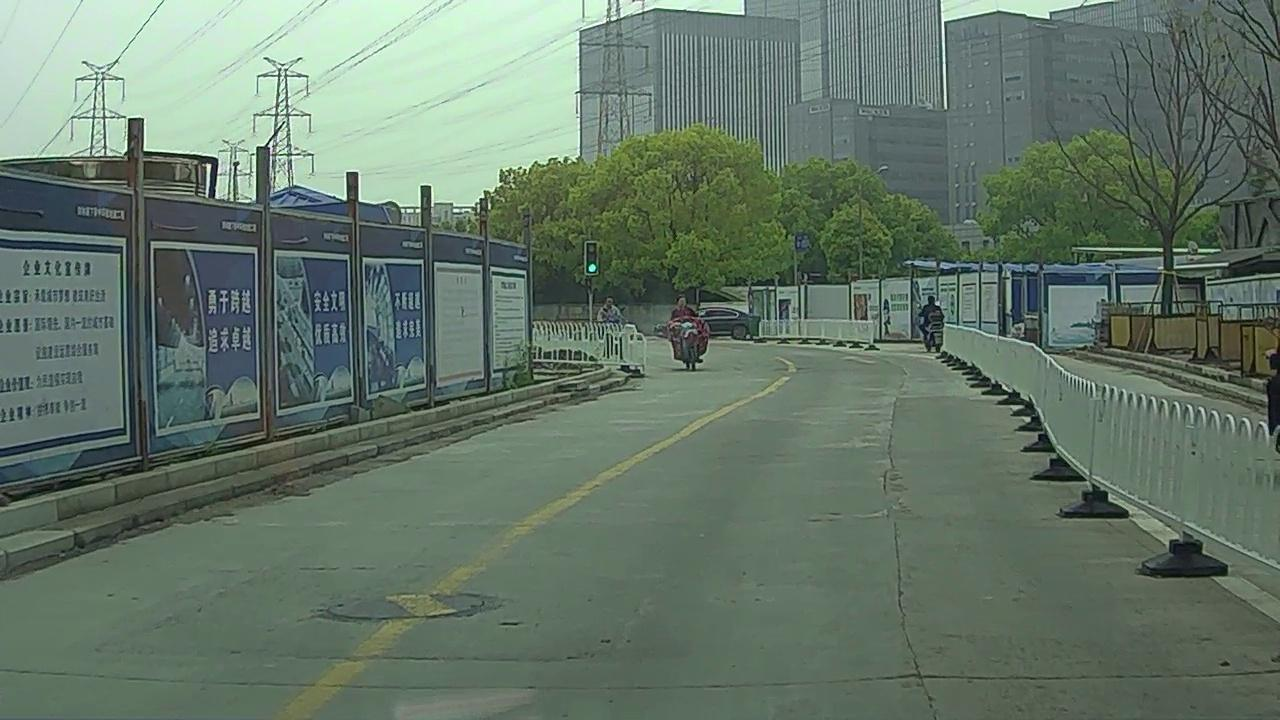traffic_light: (586, 241, 597, 275)
